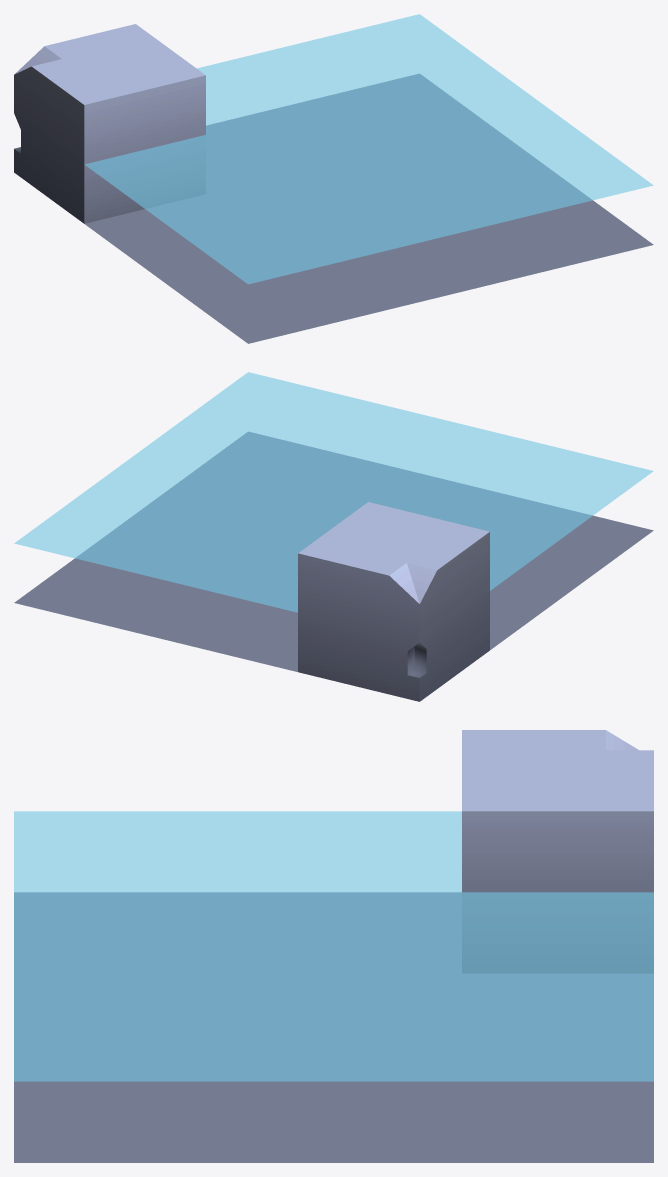
The model's file is fountain-corner-inner-square.glb.
The picture shows the model from 3 angles, top to bottom: view 1: azimuth 30°, elevation 25°; view 2: azimuth 150°, elevation 25°; view 3: azimuth 270°, elevation 25°; orthographic projection. The views are drawn at different scales.
Visible parts, largest first — view 1: fountain-corner-inner-square, (%ignore); view 2: fountain-corner-inner-square, (%ignore); view 3: fountain-corner-inner-square, (%ignore).
Boxes of the visible parts, box(x1,y1,x2,y2) form: fountain-corner-inner-square: box(14, 24, 653, 343); (%ignore): box(84, 14, 653, 284); fountain-corner-inner-square: box(14, 432, 653, 701); (%ignore): box(14, 372, 653, 612); fountain-corner-inner-square: box(14, 730, 653, 1162); (%ignore): box(14, 811, 653, 1081).
Bounding box in the file's own units: 1 × 0.2799 × 1.
Materials: 2 (1 with a texture image).
